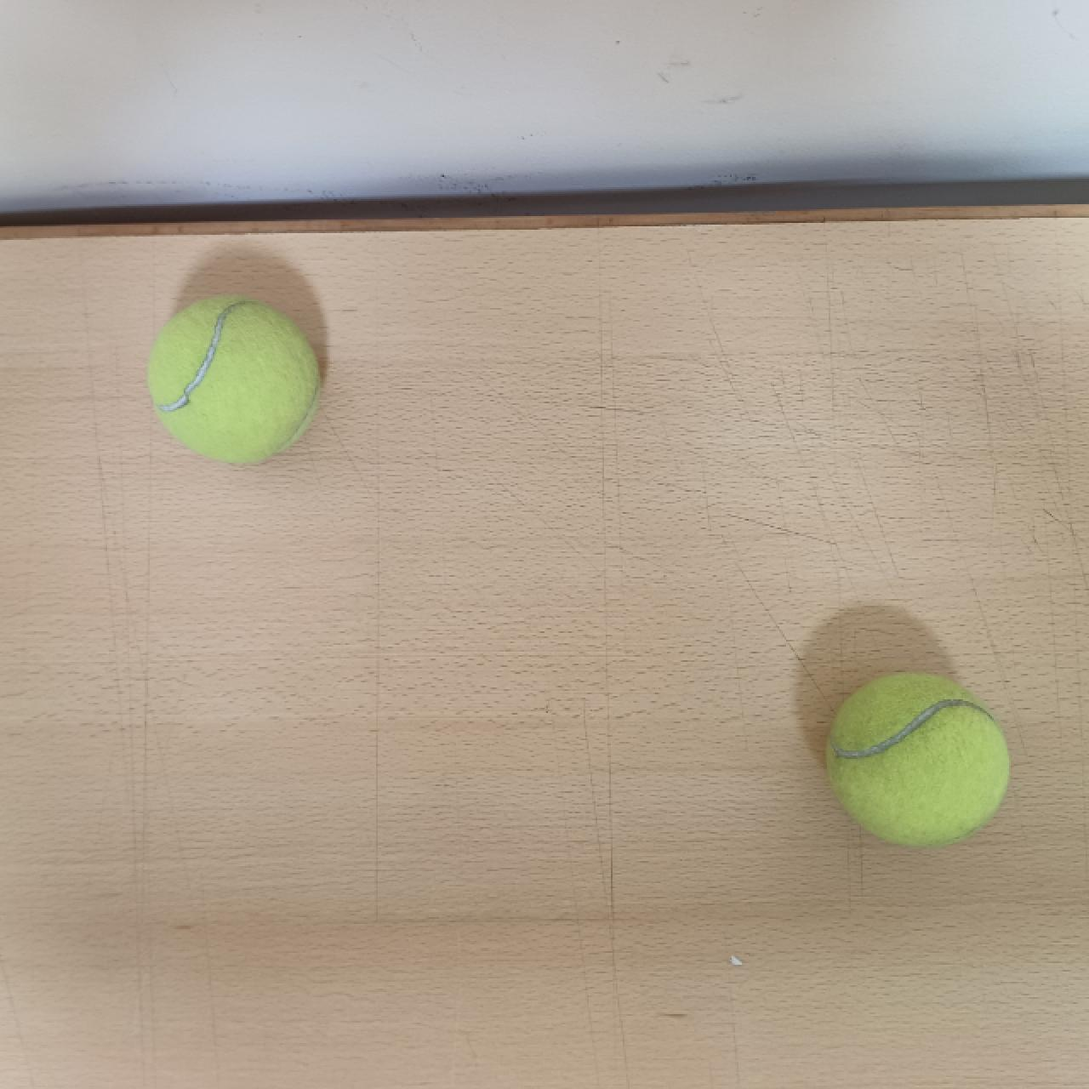tennis-ball: (824, 669, 1011, 857), (148, 292, 326, 468)
